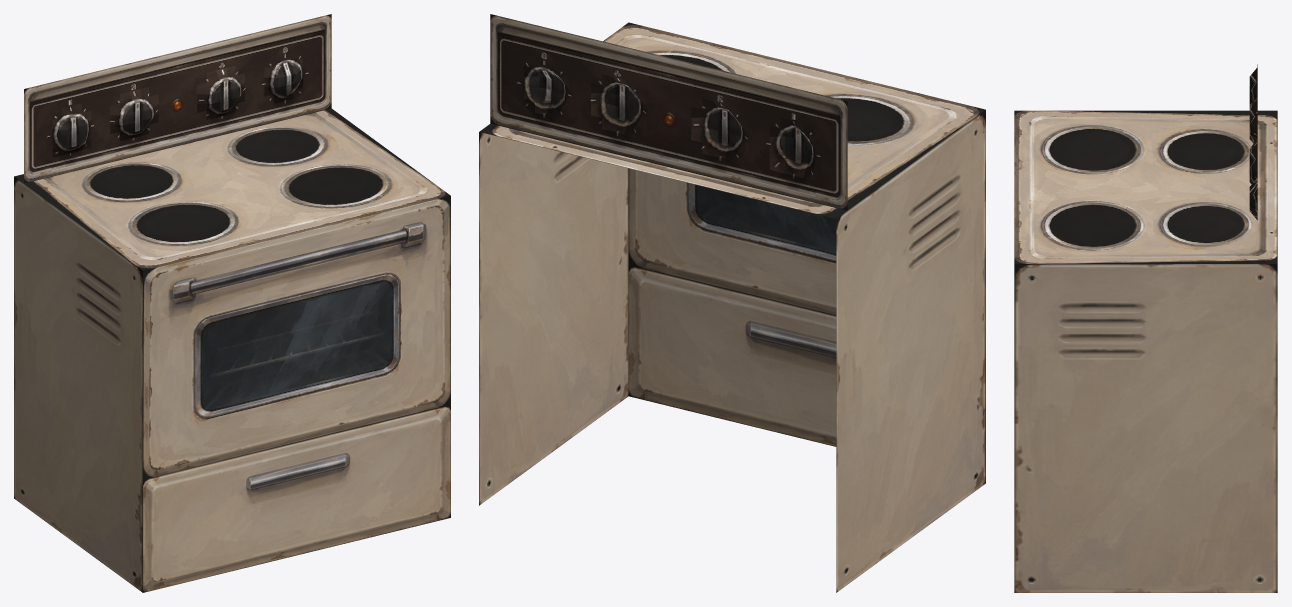
Rendered from stress_b_v2_wide36.glb.
3 renders of one model, left to right at view 1: azimuth 30°, elevation 25°; view 2: azimuth 150°, elevation 25°; view 3: azimuth 270°, elevation 25°, orthographic. The views are drawn at different scales.
Parts seen in each view (by area): view 1: stress_b_v2_wide36_front_door, stress_b_v2_wide36_left, stress_b_v2_wide36_cooktop, stress_b_v2_wide36_front_drawer, stress_b_v2_wide36_backguard; view 2: stress_b_v2_wide36_left, stress_b_v2_wide36_right, stress_b_v2_wide36_backguard, stress_b_v2_wide36_front_drawer, stress_b_v2_wide36_front_door, stress_b_v2_wide36_cooktop; view 3: stress_b_v2_wide36_right, stress_b_v2_wide36_cooktop, stress_b_v2_wide36_backguard.
Boxes of the visible parts, x1=… form: stress_b_v2_wide36_front_door: x1=143, y1=195, x2=450, y2=479; stress_b_v2_wide36_left: x1=14, y1=176, x2=142, y2=592; stress_b_v2_wide36_cooktop: x1=14, y1=108, x2=450, y2=270; stress_b_v2_wide36_front_drawer: x1=143, y1=405, x2=450, y2=592; stress_b_v2_wide36_backguard: x1=24, y1=14, x2=331, y2=183; stress_b_v2_wide36_left: x1=836, y1=110, x2=985, y2=592; stress_b_v2_wide36_right: x1=479, y1=132, x2=628, y2=505; stress_b_v2_wide36_backguard: x1=490, y1=14, x2=847, y2=210; stress_b_v2_wide36_front_drawer: x1=628, y1=265, x2=836, y2=446; stress_b_v2_wide36_front_door: x1=628, y1=168, x2=836, y2=315; stress_b_v2_wide36_cooktop: x1=479, y1=22, x2=985, y2=218; stress_b_v2_wide36_right: x1=1014, y1=264, x2=1277, y2=592; stress_b_v2_wide36_cooktop: x1=1014, y1=110, x2=1277, y2=263; stress_b_v2_wide36_backguard: x1=1249, y1=64, x2=1257, y2=219.
Bounding box in the file's own units: 0.91 × 1.18 × 0.66.
Materials: 1 (1 with a texture image).
